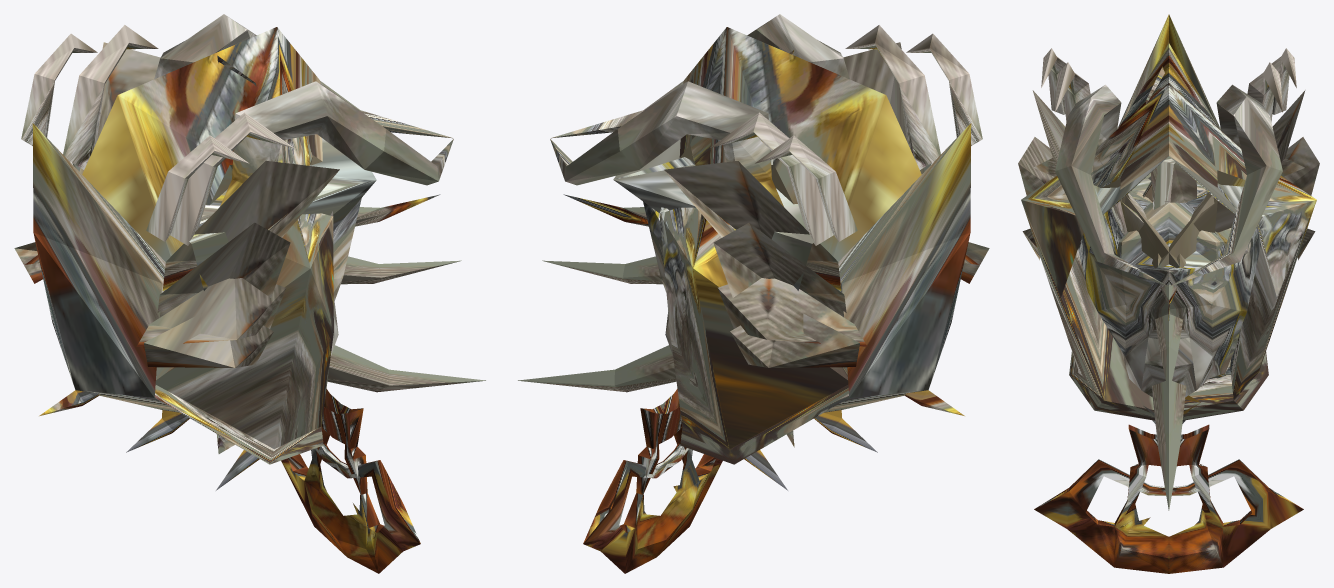
File: mon112.obj
The picture shows the model from 3 angles, left to right: view 1: azimuth 30°, elevation 25°; view 2: azimuth 150°, elevation 25°; view 3: azimuth 270°, elevation 25°; orthographic projection. The views are drawn at different scales.
Bounding box in the file's own units: 36.73 × 42.25 × 25.05.
